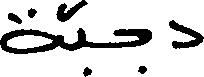X: (0, 1, 59, 58), (115, 24, 151, 76), (168, 15, 203, 53), (79, 0, 86, 76)
